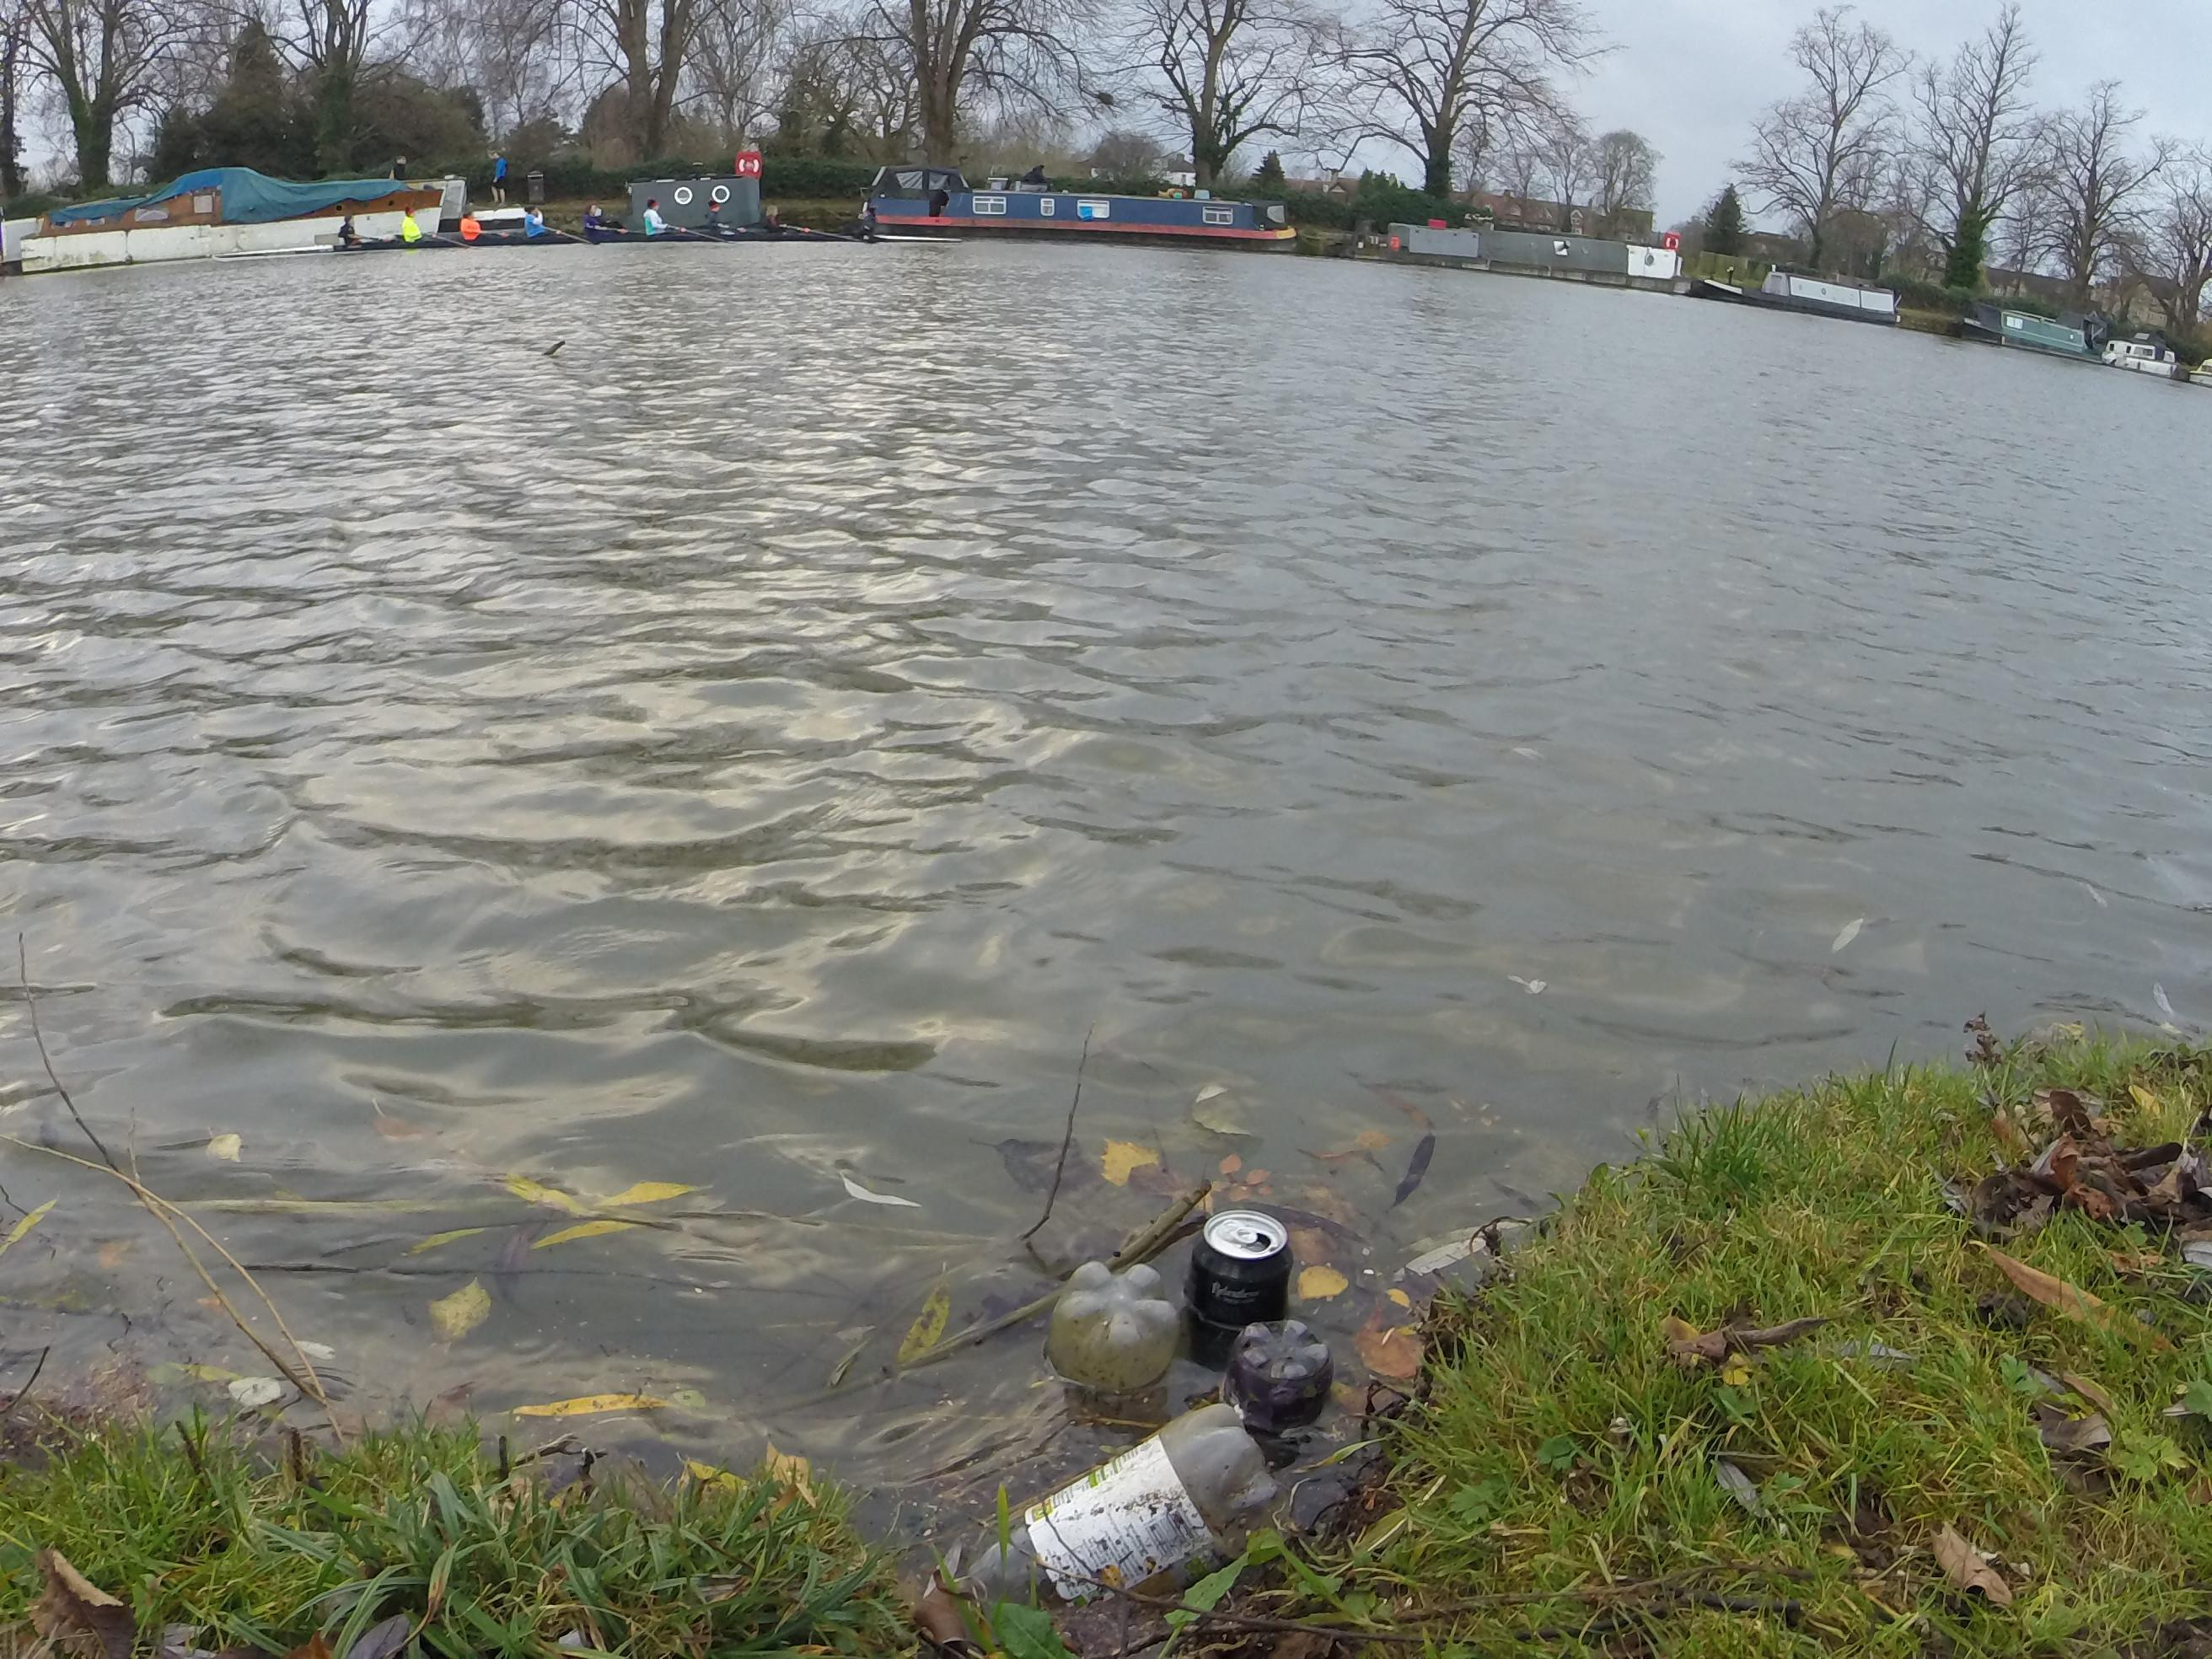Trash: (937, 1410, 1280, 1619), (1057, 1253, 1165, 1408), (1195, 1192, 1285, 1361), (1223, 1312, 1327, 1438)
